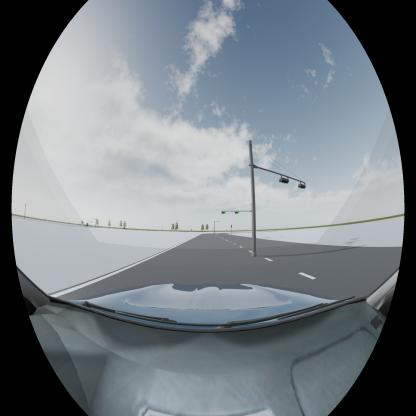Green Light: (235, 211, 239, 214), (221, 212, 226, 214)
